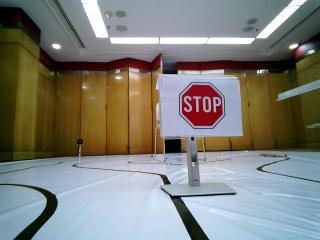stop: (163, 77, 238, 128)
